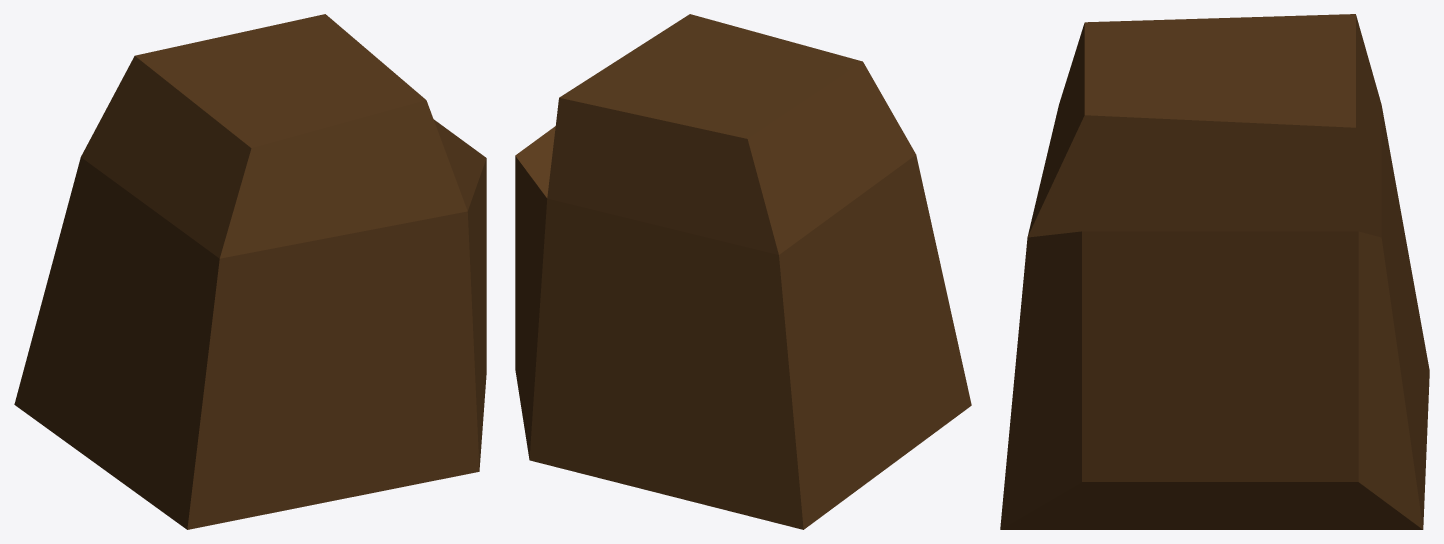
The model's file is Stump2.fbx.
3 views of the same model, side by side, from view 1: azimuth 30°, elevation 25°; view 2: azimuth 150°, elevation 25°; view 3: azimuth 270°, elevation 25° (orthographic). The views are drawn at different scales.
Parts seen in each view (by area): view 1: Cube.008; view 2: Cube.008; view 3: Cube.008.
Part boxes in pixels (x1=…): Cube.008: x1=14, y1=14, x2=486, y2=529; Cube.008: x1=515, y1=14, x2=971, y2=529; Cube.008: x1=1000, y1=14, x2=1429, y2=529.
Bounding box in the file's own units: 268 × 279 × 266.
